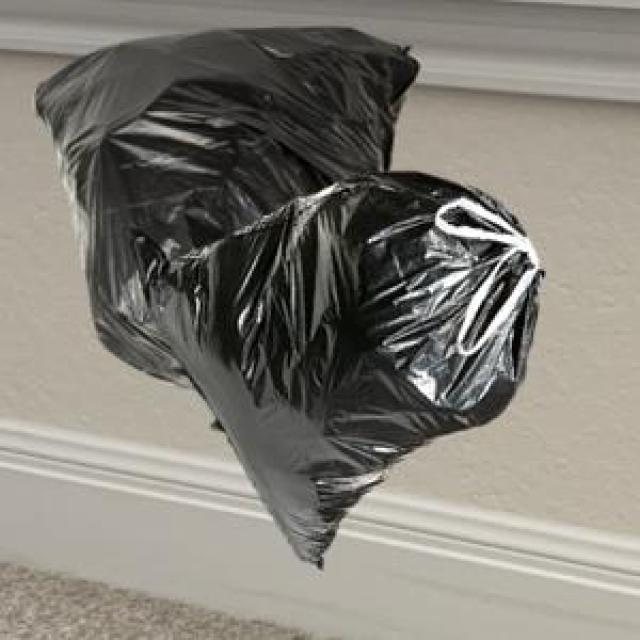miscellaneous trash: (126, 169, 540, 565), (30, 24, 414, 427)
